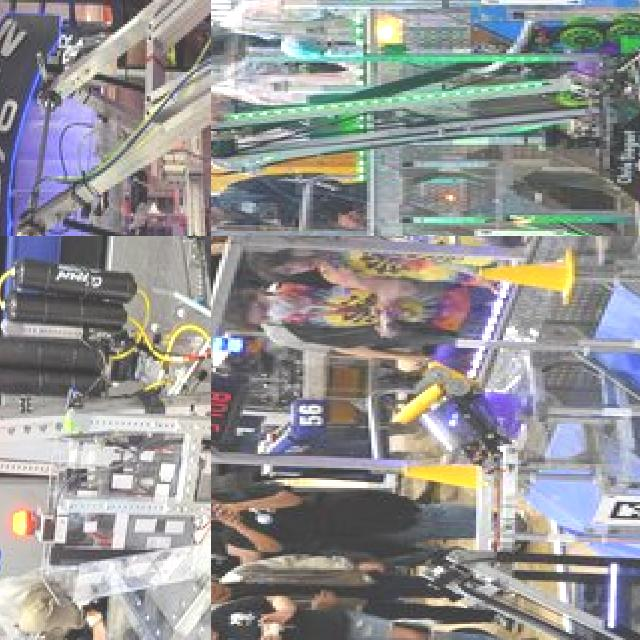FRC-Robots: (211, 0, 640, 231), (0, 236, 211, 600), (14, 0, 211, 236), (410, 480, 640, 640)
